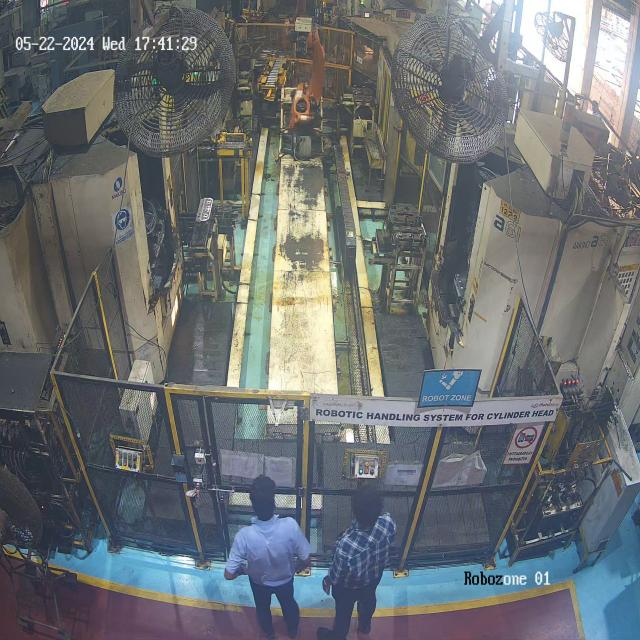person: (218, 487, 310, 640), (314, 489, 396, 640)
